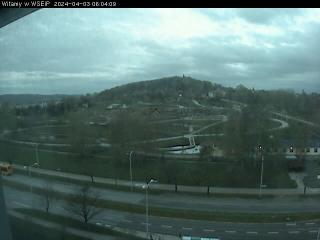bus: (0, 163, 15, 177)
